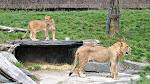lion: (72, 37, 136, 84), (20, 12, 60, 44)
